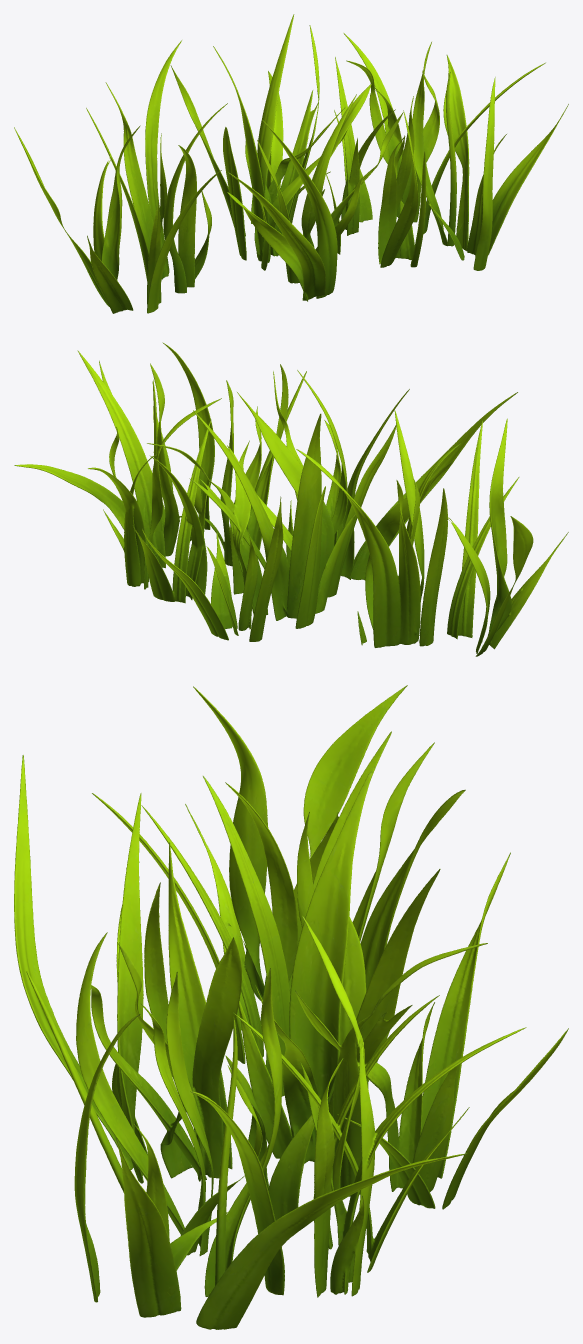
File: mato.compressed.glb
The picture shows the model from 3 angles, top to bottom: view 1: azimuth 30°, elevation 25°; view 2: azimuth 150°, elevation 25°; view 3: azimuth 270°, elevation 25°; orthographic projection. The views are drawn at different scales.
Bounding box in the file's own units: 1.9 × 0.8495 × 1.11.
Materials: 1 (1 with a texture image).
